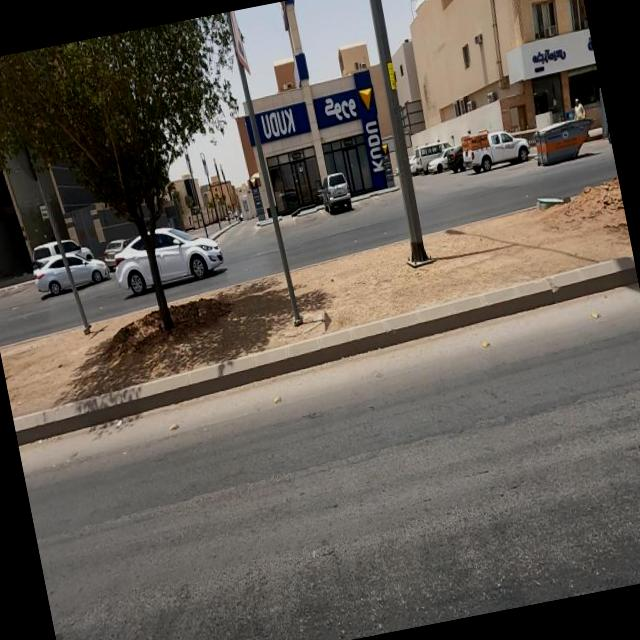debris: (514, 159, 612, 257)
